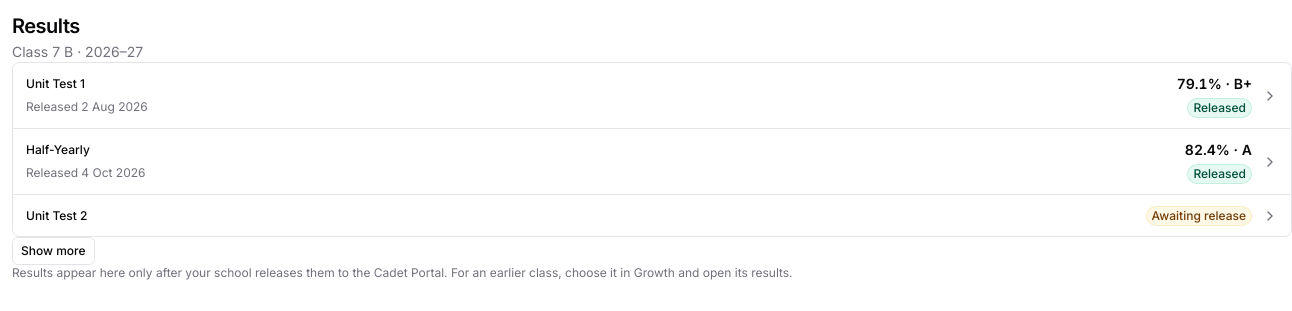
Test: ResultsScreen › loads more examinations when the class has another page
The width and height of the screenshot is (1292, 311).
Click the button "Show more".
click(53, 251)  # box [12,237,94,265]
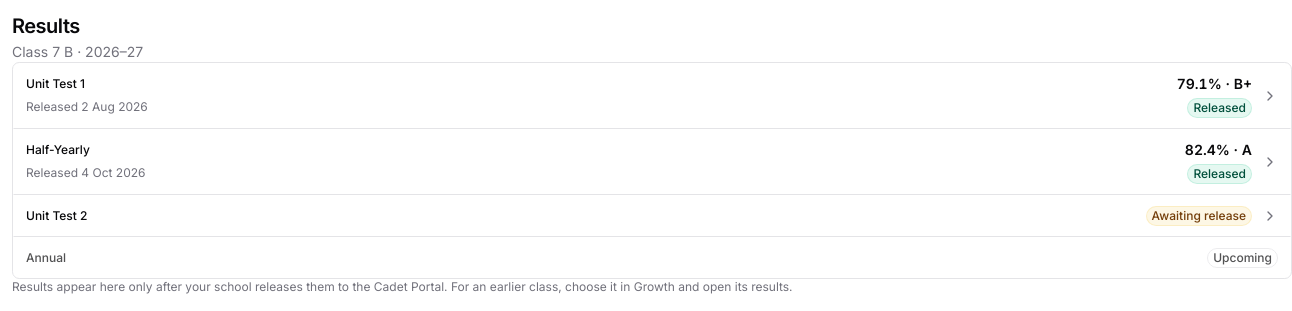
Expected: the text "Annual" is shown, [26,250,66,266]
